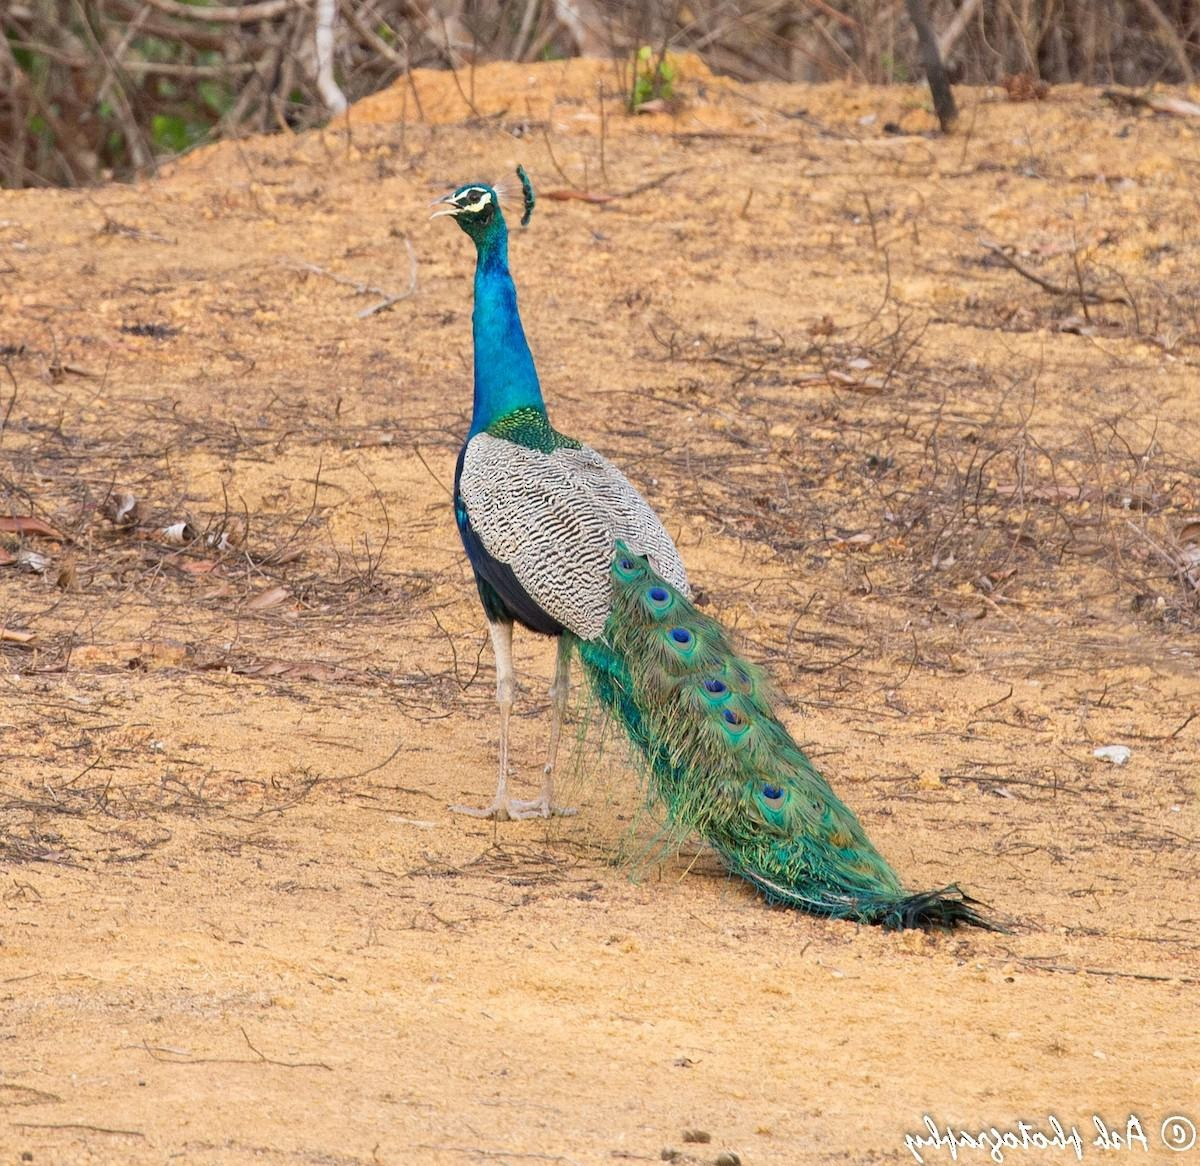peacock: (403, 148, 943, 989)
